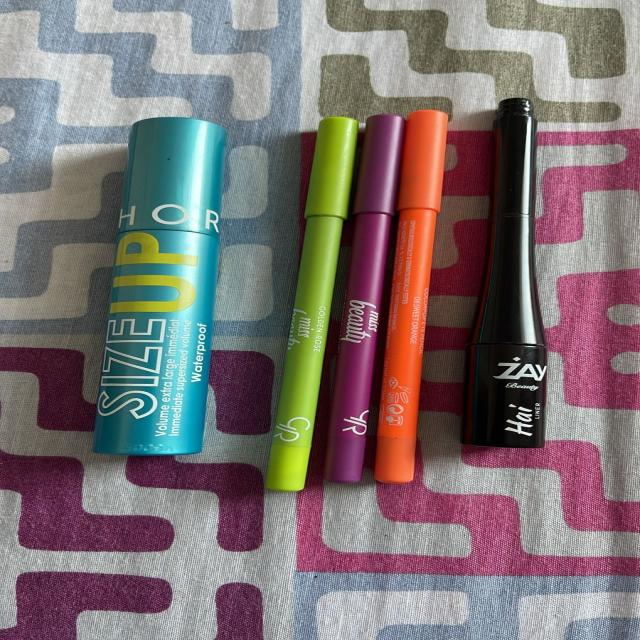lip liner: (255, 100, 446, 500), (454, 86, 586, 462)
mascara: (81, 111, 247, 461)
